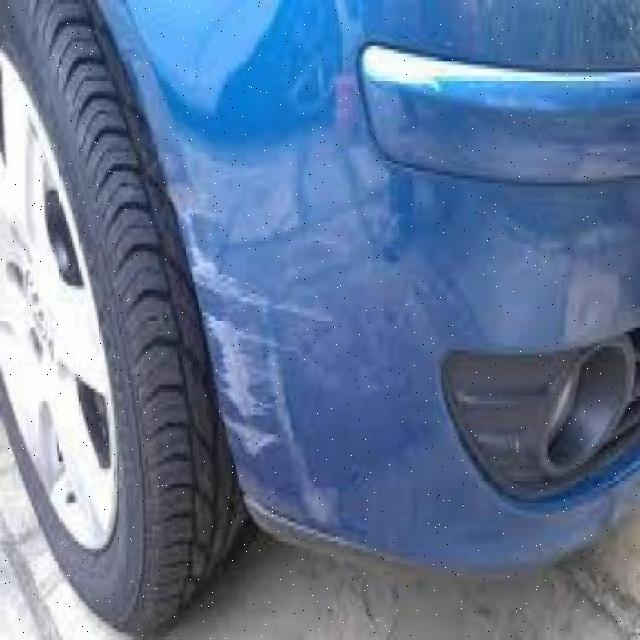damage: (180, 155, 340, 516)
